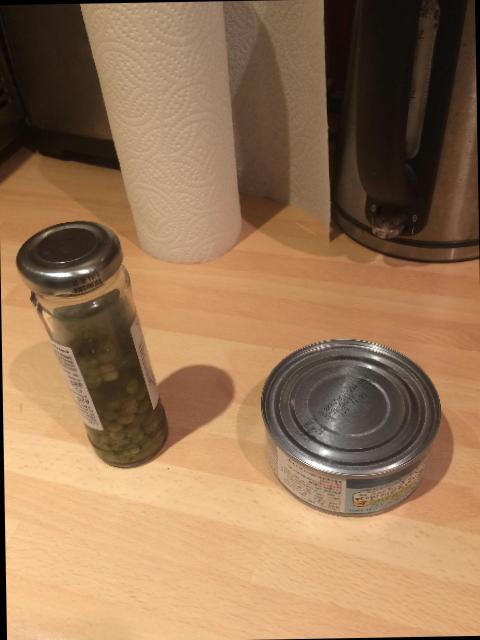metal: (260, 338, 439, 514)
